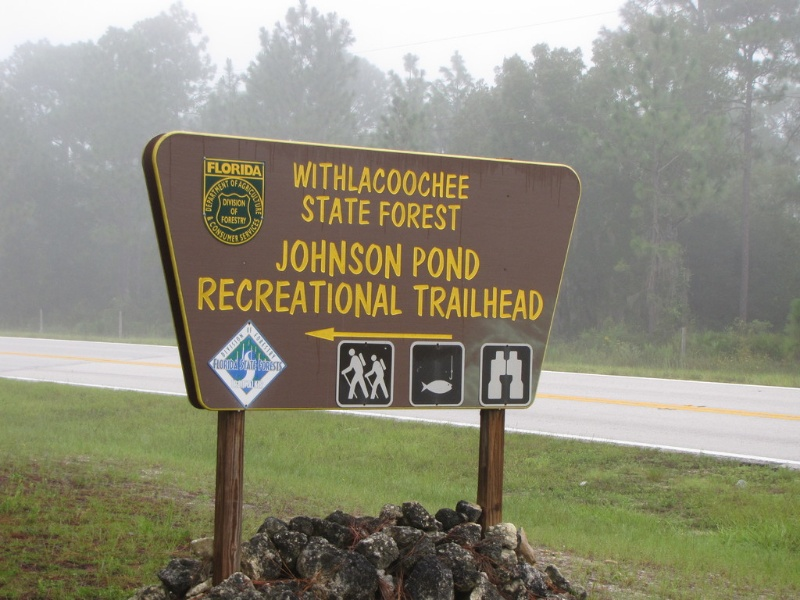recreation: (139, 124, 550, 403)
